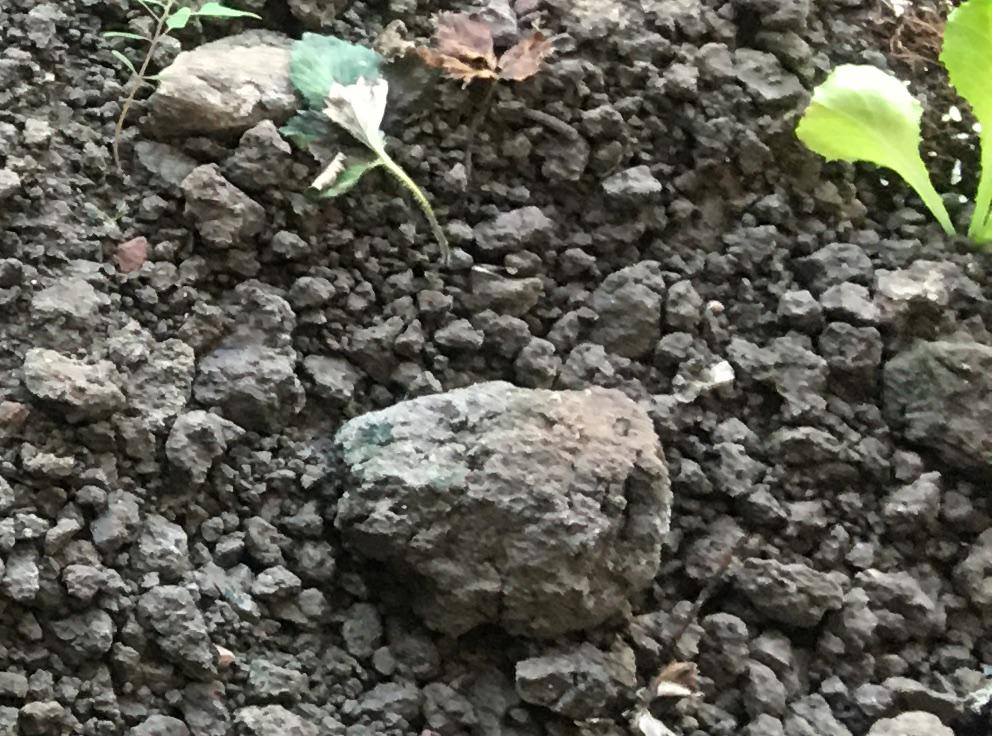block: (333, 379, 675, 645)
